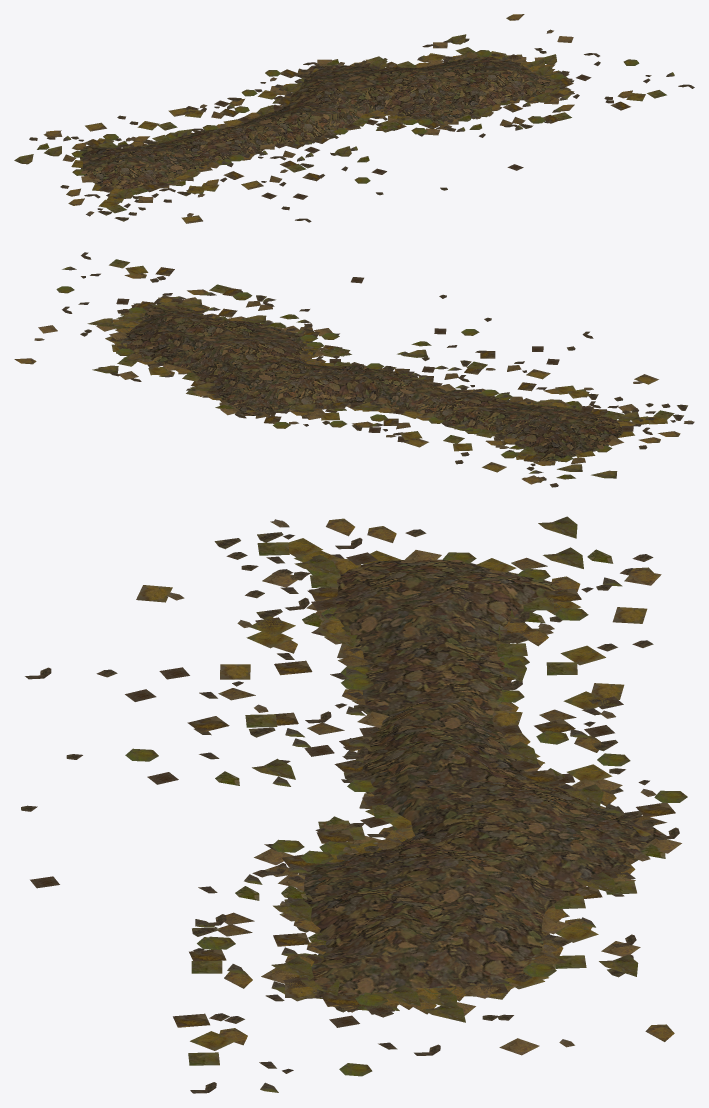
File: sm10_040_leaves00a.fbx
3 views of the same model, one above another, from view 1: azimuth 30°, elevation 25°; view 2: azimuth 150°, elevation 25°; view 3: azimuth 270°, elevation 25° (orthographic). The views are drawn at different scales.
Visible parts, largest first — view 1: LOD_1_Group_0_Sub_1__leavesBase00_Mat, LOD_1_Group_0_Sub_2__leaves00_Mat_Env_AlphaTest; view 2: LOD_1_Group_0_Sub_1__leavesBase00_Mat, LOD_1_Group_0_Sub_2__leaves00_Mat_Env_AlphaTest; view 3: LOD_1_Group_0_Sub_1__leavesBase00_Mat, LOD_1_Group_0_Sub_2__leaves00_Mat_Env_AlphaTest.
Boxes of the visible parts, x1,y1,x2,y2 form: LOD_1_Group_0_Sub_1__leavesBase00_Mat: [80, 56, 562, 189]; LOD_1_Group_0_Sub_2__leaves00_Mat_Env_AlphaTest: [14, 14, 694, 223]; LOD_1_Group_0_Sub_1__leavesBase00_Mat: [123, 306, 622, 461]; LOD_1_Group_0_Sub_2__leaves00_Mat_Env_AlphaTest: [14, 252, 694, 487]; LOD_1_Group_0_Sub_1__leavesBase00_Mat: [297, 559, 666, 995]; LOD_1_Group_0_Sub_2__leaves00_Mat_Env_AlphaTest: [21, 516, 687, 1093].
Size of the model in its own units: 10.01 by 0.251 by 4.91.
